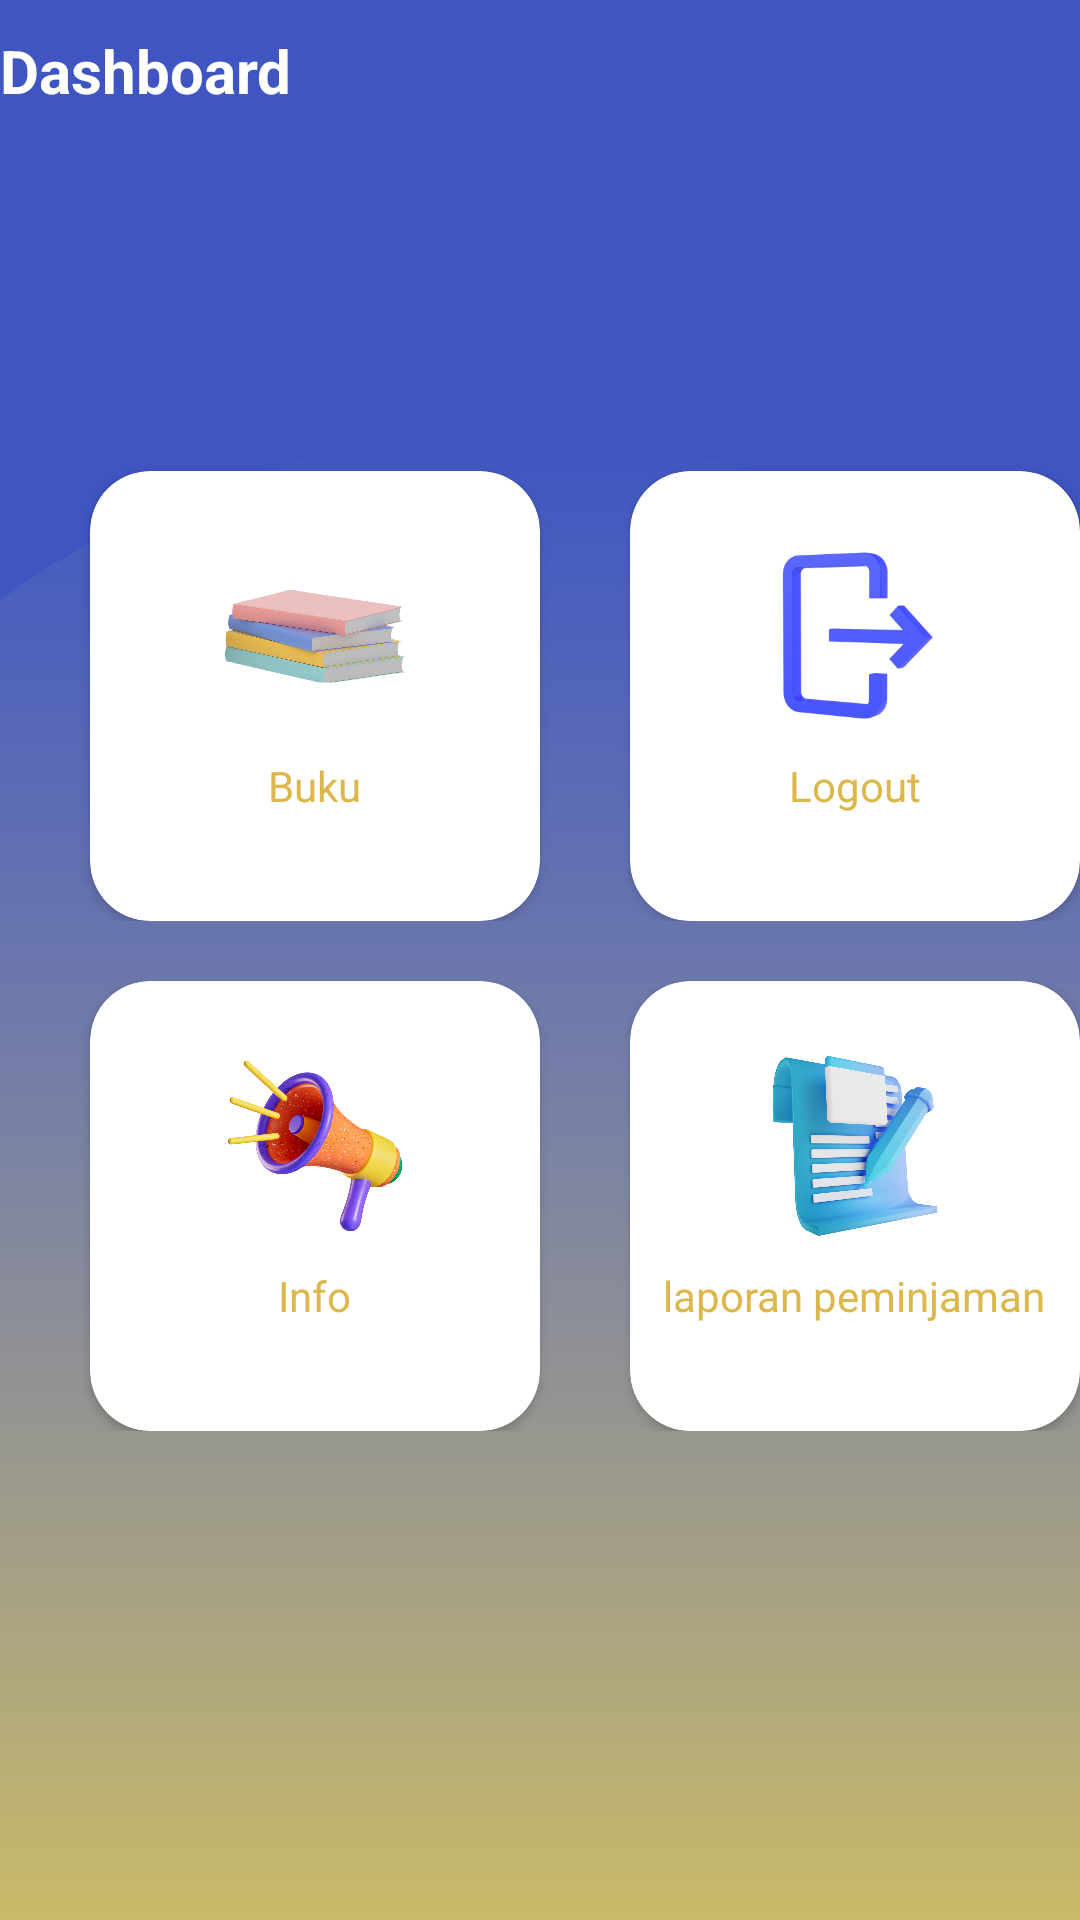

Icon click points for this 1080px×1920px phone screenshot, format point (x, y):
list: point (854, 1146)
